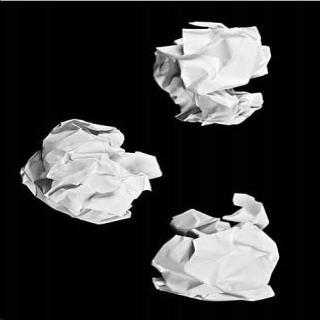Anorganik: (147, 194, 283, 314), (14, 117, 164, 225), (148, 19, 280, 129)
